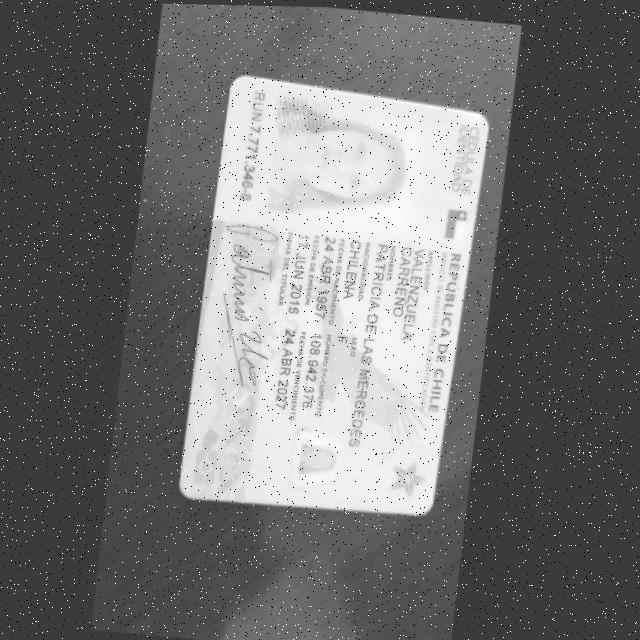card: (181, 77, 487, 514)
